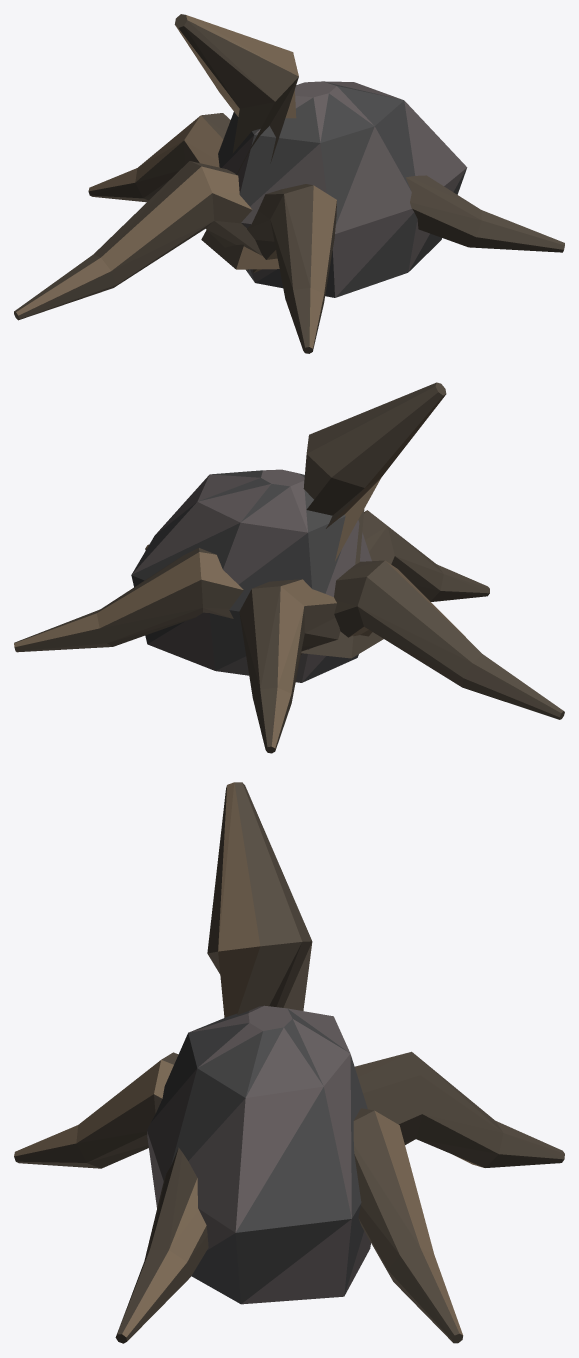
The model's file is AE_DarkForest_RootTangle.fbx.
3 renders of one model, top to bottom at view 1: azimuth 30°, elevation 25°; view 2: azimuth 150°, elevation 25°; view 3: azimuth 270°, elevation 25°, orthographic. The views are drawn at different scales.
Visible parts, largest first — view 1: AE_DarkForest_RootTangle; view 2: AE_DarkForest_RootTangle; view 3: AE_DarkForest_RootTangle.
Boxes of the visible parts, bbox=[...] form: AE_DarkForest_RootTangle: bbox=[14, 14, 564, 353]; AE_DarkForest_RootTangle: bbox=[14, 382, 564, 753]; AE_DarkForest_RootTangle: bbox=[14, 782, 564, 1343].
Bounding box in the file's own units: 1.42 × 0.8144 × 1.12.
